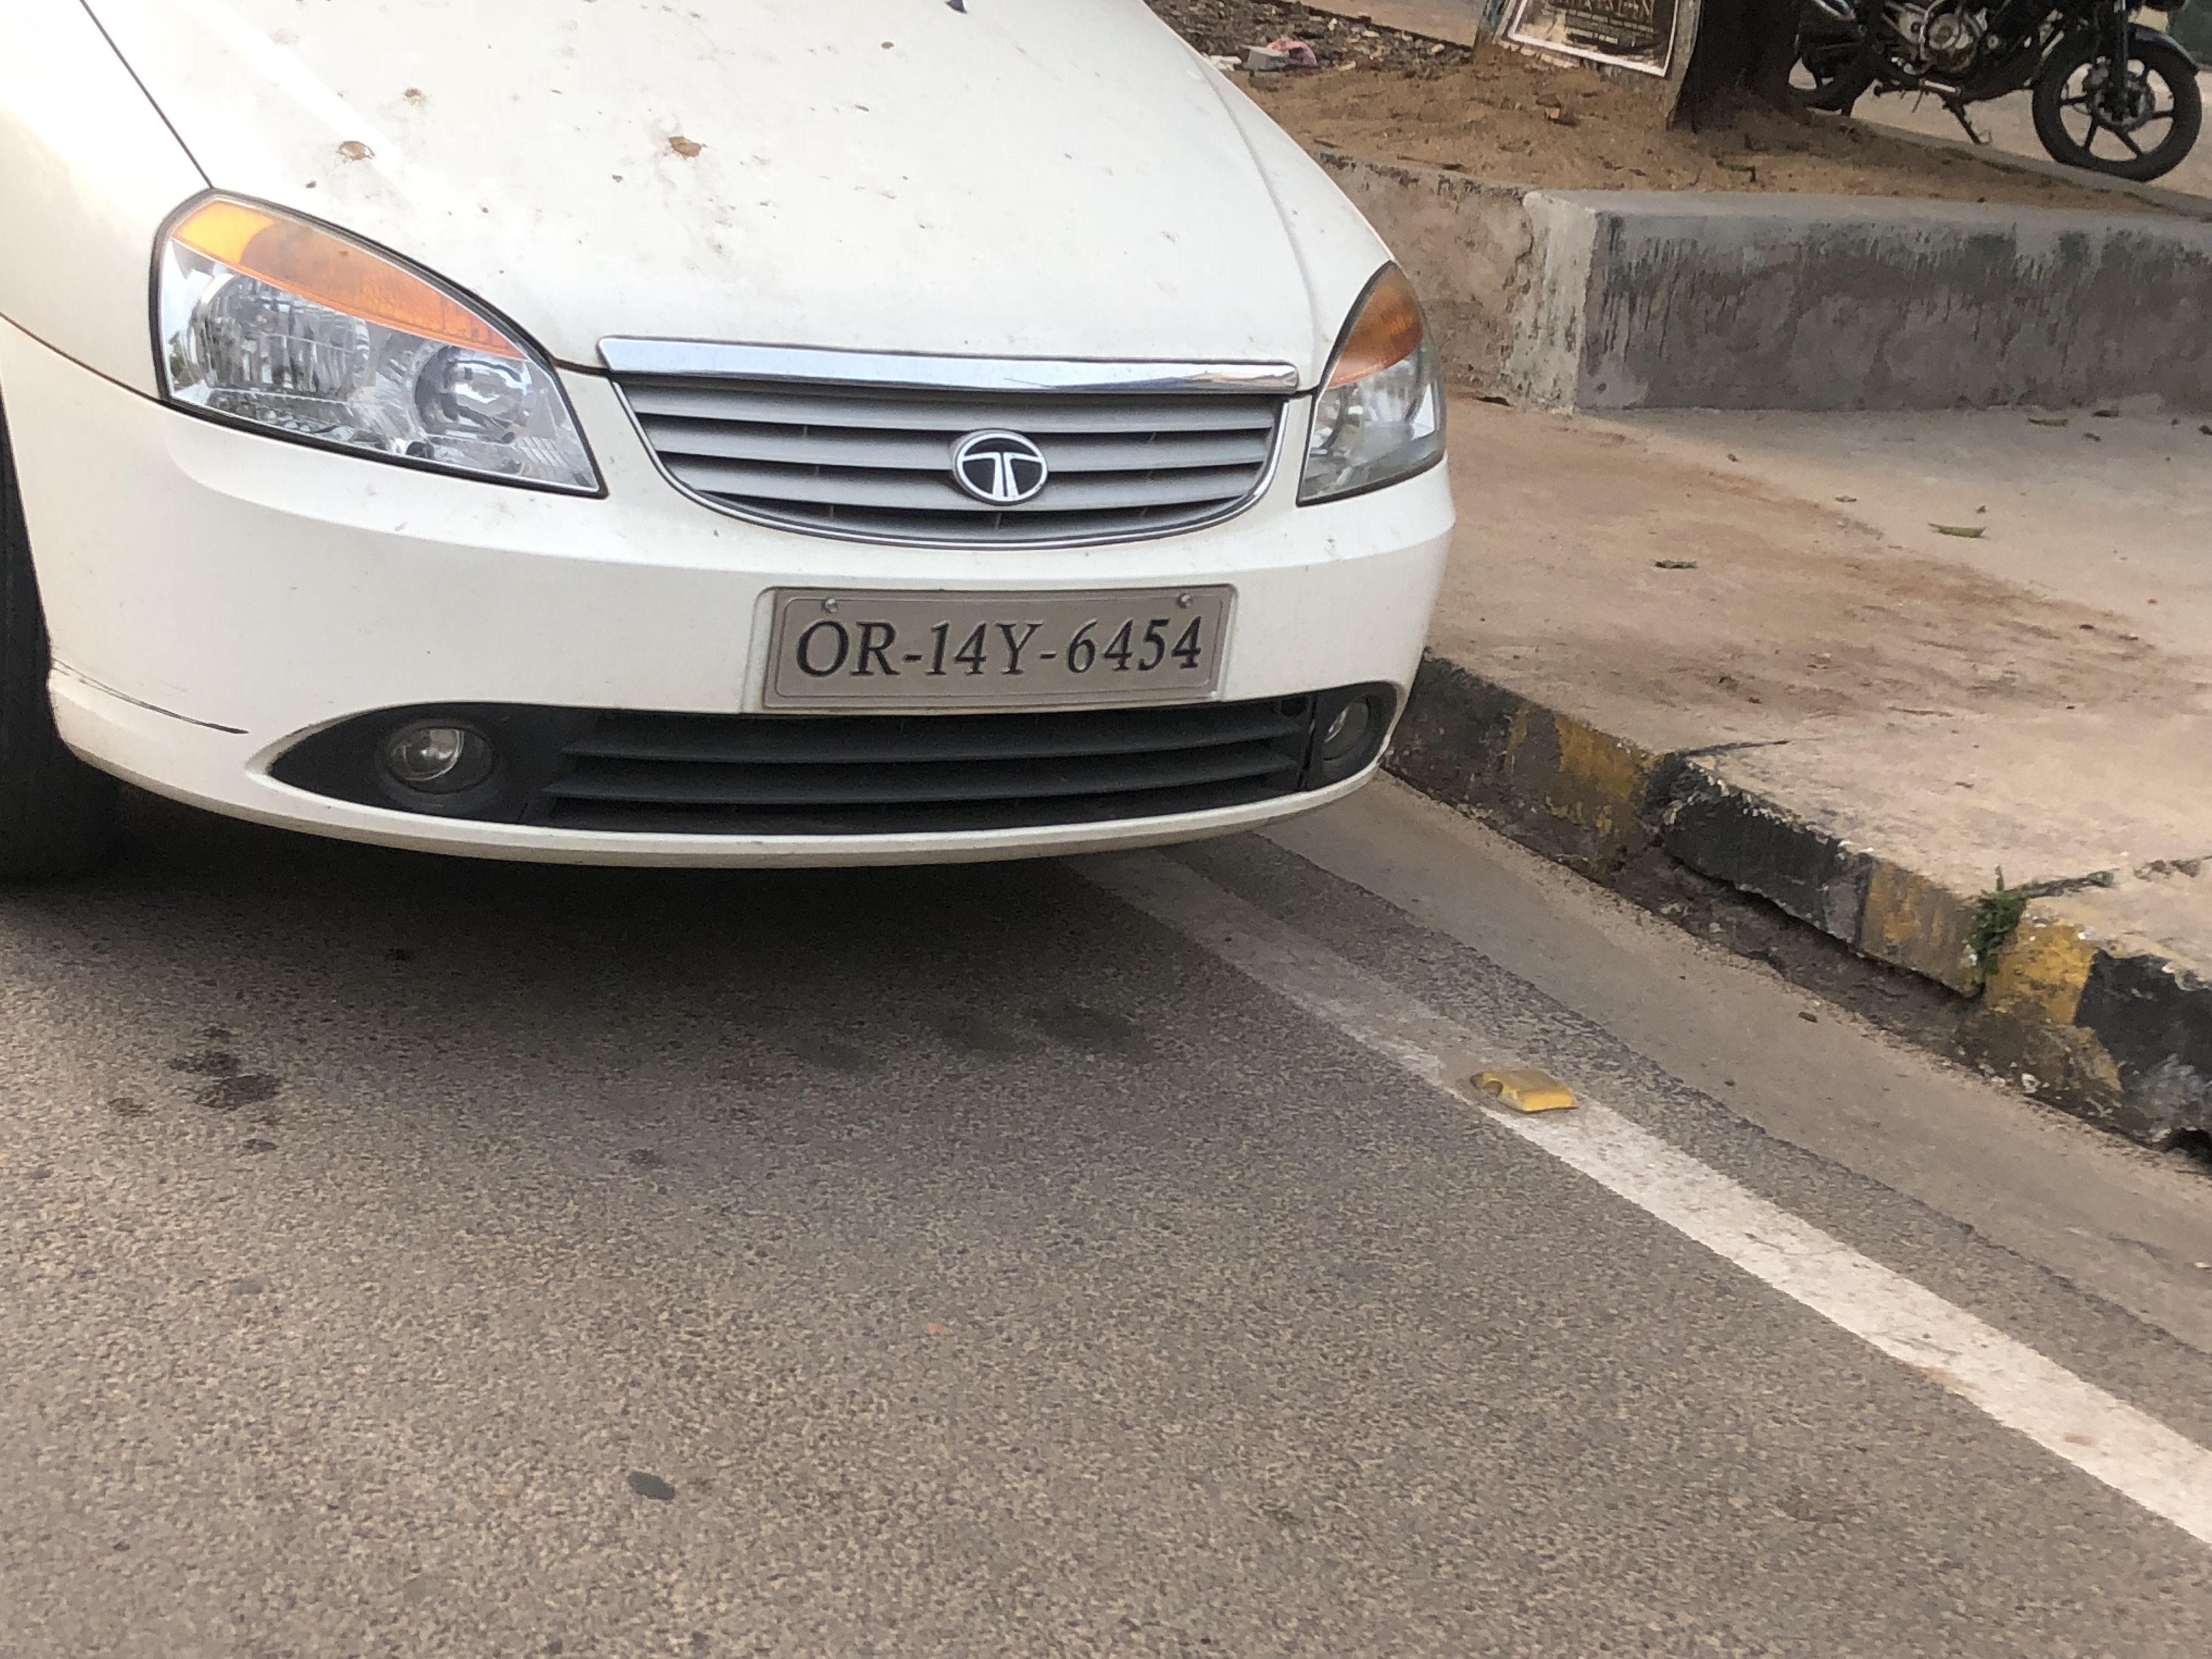licenseplate: (751, 572, 1238, 707)
